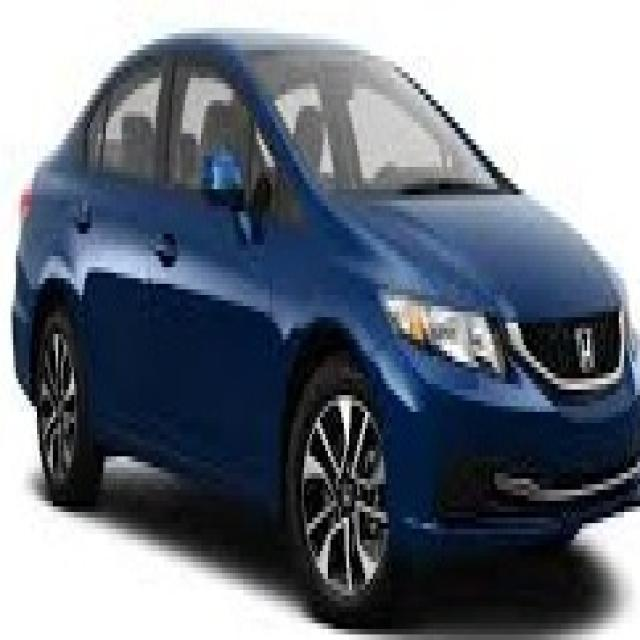blue: (10, 26, 640, 622)
